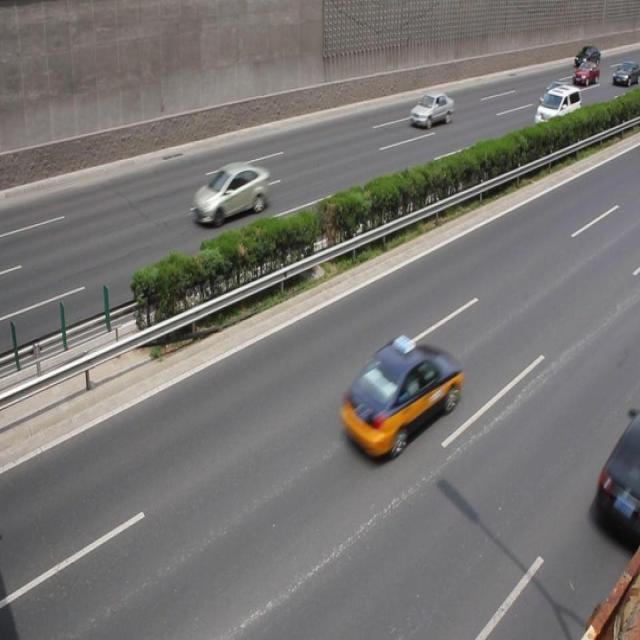car: (340, 339, 461, 459), (193, 164, 270, 228), (534, 84, 580, 139), (409, 91, 453, 127), (537, 80, 574, 107), (572, 58, 596, 89), (574, 44, 600, 70)
